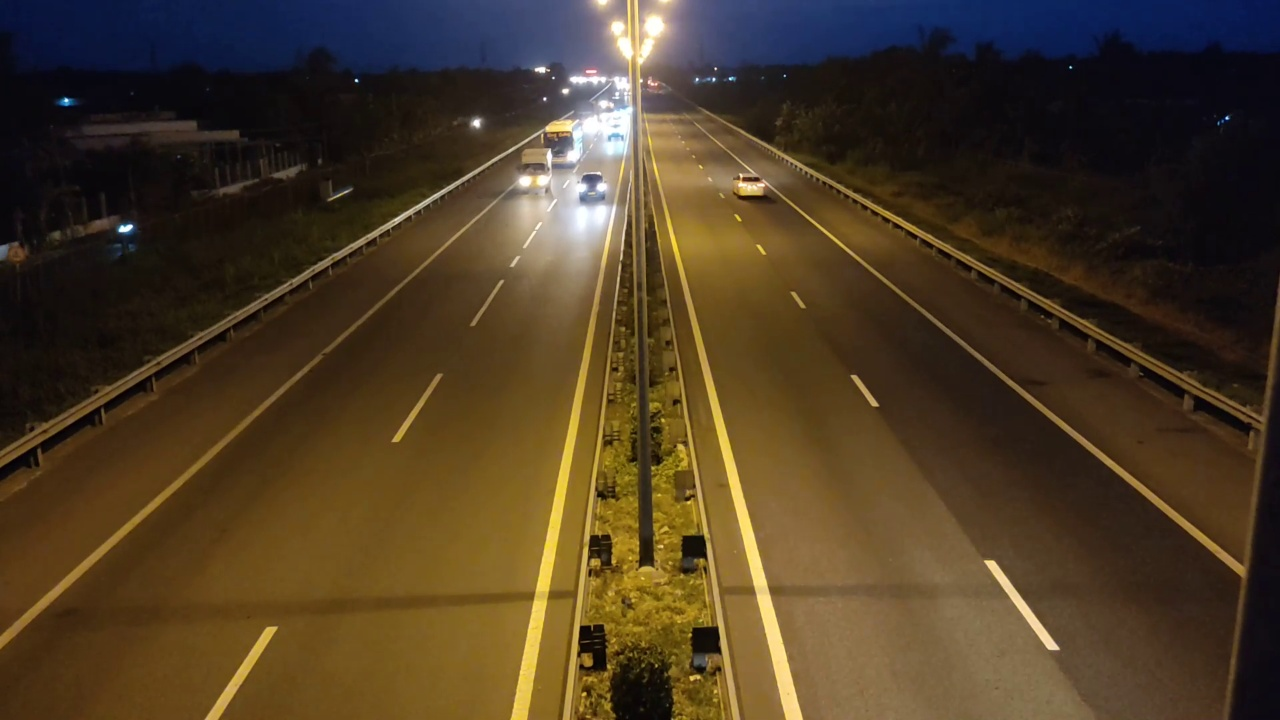car: (577, 171, 607, 203), (732, 173, 768, 197)
